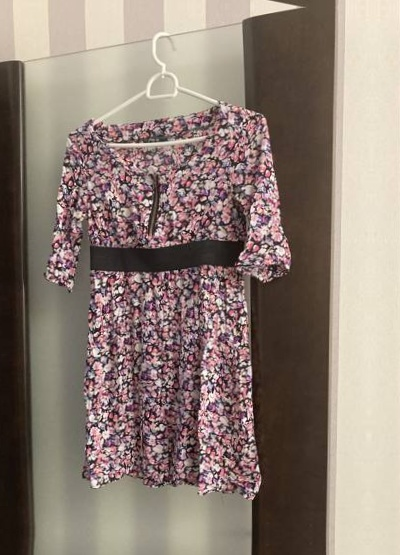Dress: (29, 106, 315, 497)
